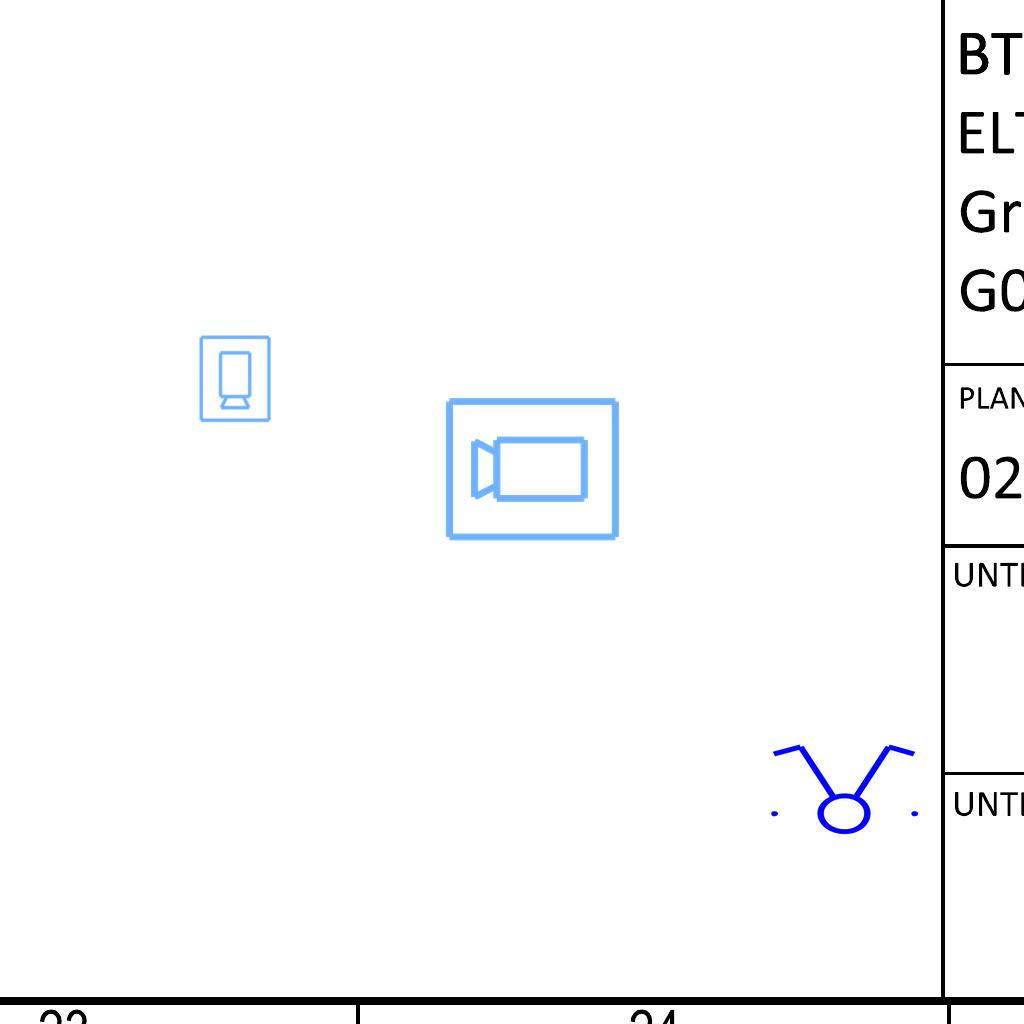KFO_Kamera_mit_Festobjektiv: (442, 391, 624, 545), (196, 333, 273, 424)
Serienschalter: (759, 740, 927, 836)
